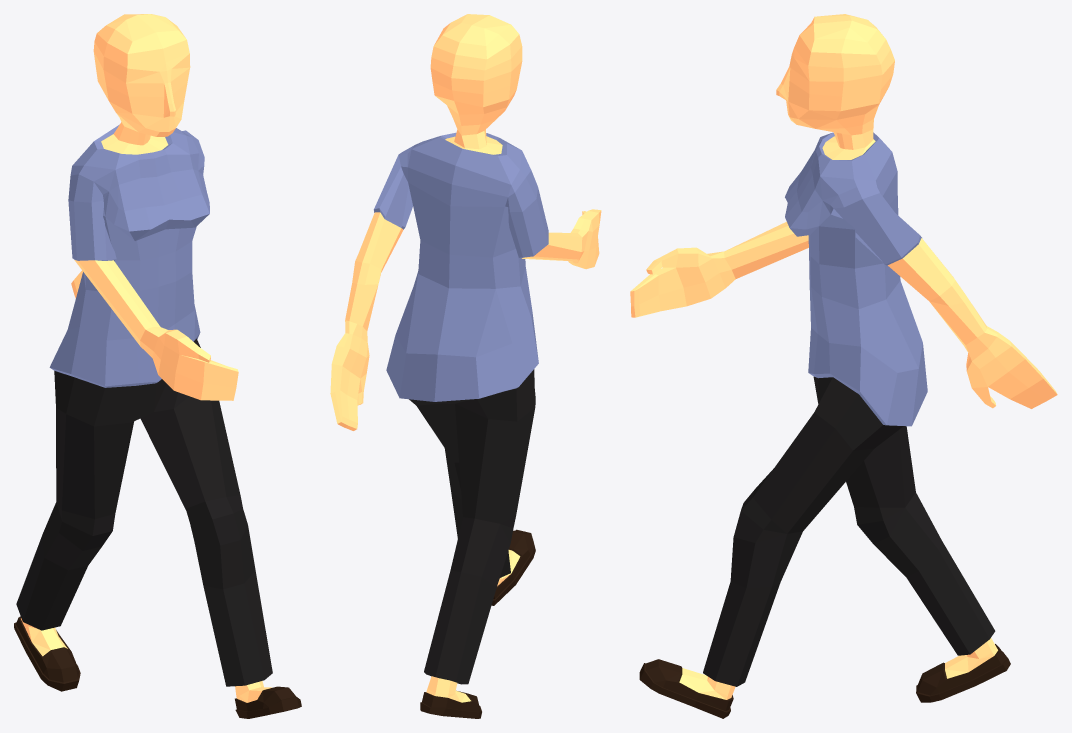
Rendered from female_running.glb.
3 views of the same model, side by side, from view 1: azimuth 30°, elevation 25°; view 2: azimuth 150°, elevation 25°; view 3: azimuth 270°, elevation 25° (orthographic). The views are drawn at different scales.
Parts seen in each view (by area): view 1: Female_Running; view 2: Female_Running; view 3: Female_Running.
Boxes of the visible parts, <box> form: Female_Running: <box>14,14,301,718</box>; Female_Running: <box>330,14,601,718</box>; Female_Running: <box>630,14,1057,718</box>.
Bounding box in the file's own units: 0.4185 × 1.85 × 1.03.
